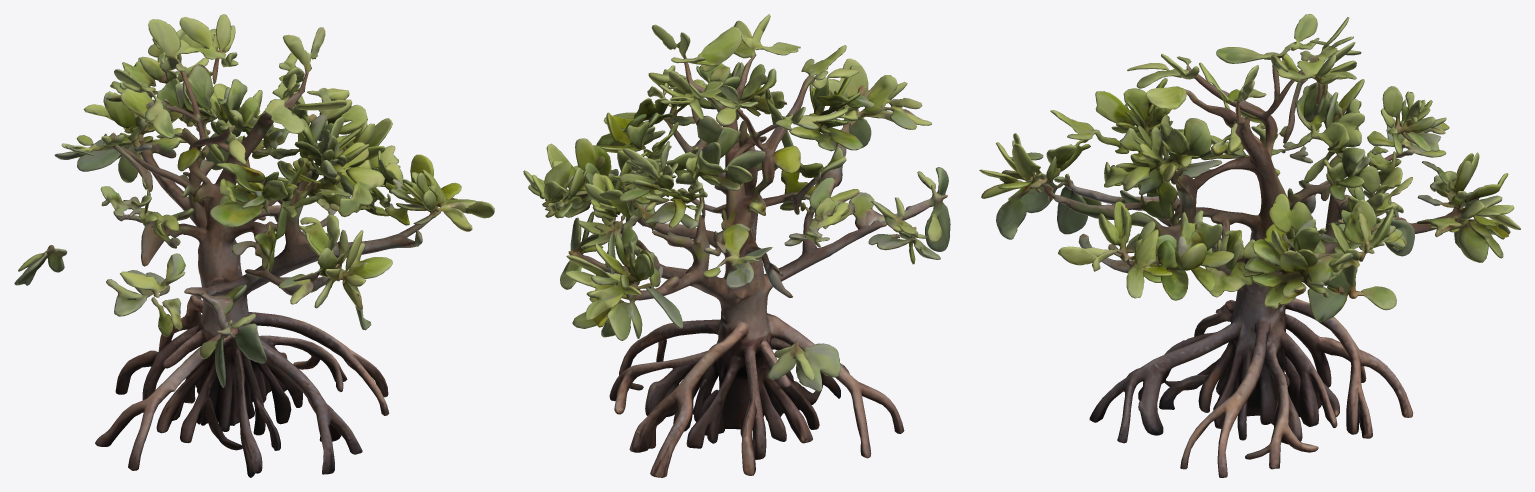
The model's file is nature-mangrove.glb.
3 renders of one model, left to right at view 1: azimuth 30°, elevation 25°; view 2: azimuth 150°, elevation 25°; view 3: azimuth 270°, elevation 25°, orthographic.
Parts seen in each view (by area): view 1: tripo_node_c2ebff35-198e-4aad-9134-ff8554899989; view 2: tripo_node_c2ebff35-198e-4aad-9134-ff8554899989; view 3: tripo_node_c2ebff35-198e-4aad-9134-ff8554899989.
Boxes of the visible parts, bbox=[...] form: tripo_node_c2ebff35-198e-4aad-9134-ff8554899989: bbox=[14, 14, 494, 477]; tripo_node_c2ebff35-198e-4aad-9134-ff8554899989: bbox=[523, 14, 950, 477]; tripo_node_c2ebff35-198e-4aad-9134-ff8554899989: bbox=[979, 14, 1520, 477].
Bounding box in the file's own units: 4.82 × 5 × 6.35.
Materials: 1 (1 with a texture image).
